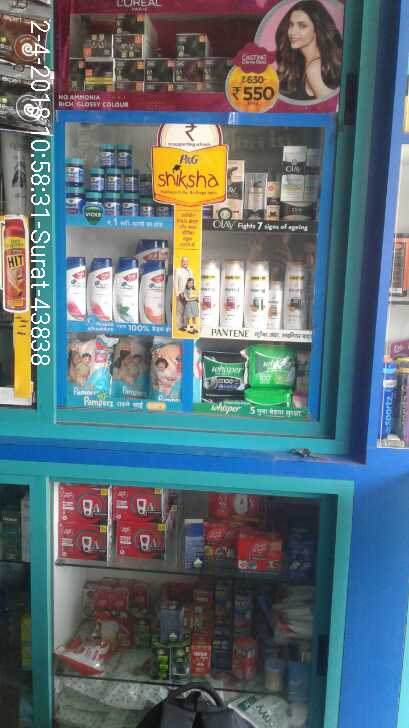vicks: (65, 157, 86, 184), (99, 141, 117, 169), (103, 194, 123, 218), (123, 194, 140, 218), (117, 143, 132, 169), (125, 171, 143, 192), (68, 187, 83, 210), (94, 171, 109, 193), (109, 172, 122, 193)
